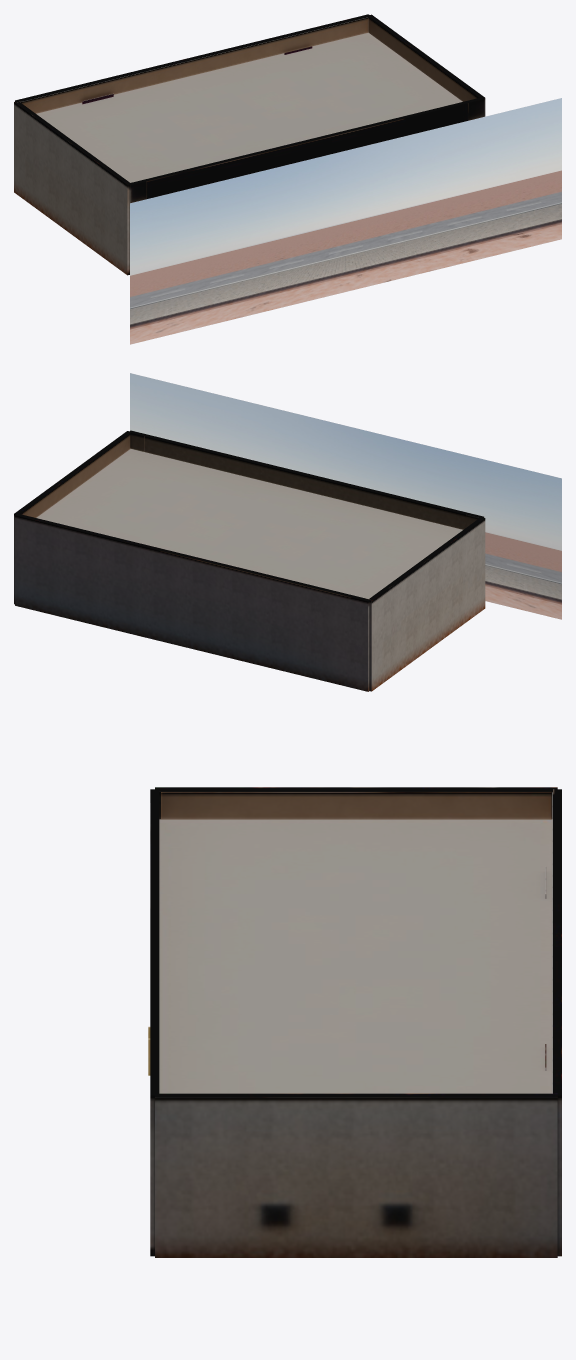
The model's file is int_adunni.glb.
The picture shows the model from 3 angles, top to bottom: view 1: azimuth 30°, elevation 25°; view 2: azimuth 150°, elevation 25°; view 3: azimuth 270°, elevation 25°; orthographic projection. The views are drawn at different scales.
Parts seen in each view (by area): view 1: VIEW_front, ROOM; view 2: ROOM, VIEW_front; view 3: ROOM.
Part boxes in pixels (x1,y1,x2,y2): VIEW_front: (130, 98, 561, 344); ROOM: (14, 14, 485, 275); ROOM: (14, 430, 485, 691); VIEW_front: (130, 373, 561, 619); ROOM: (148, 787, 561, 1257).
Size of the model in its own units: 22 by 6.88 by 13.61.
3 materials, 2 textured.
